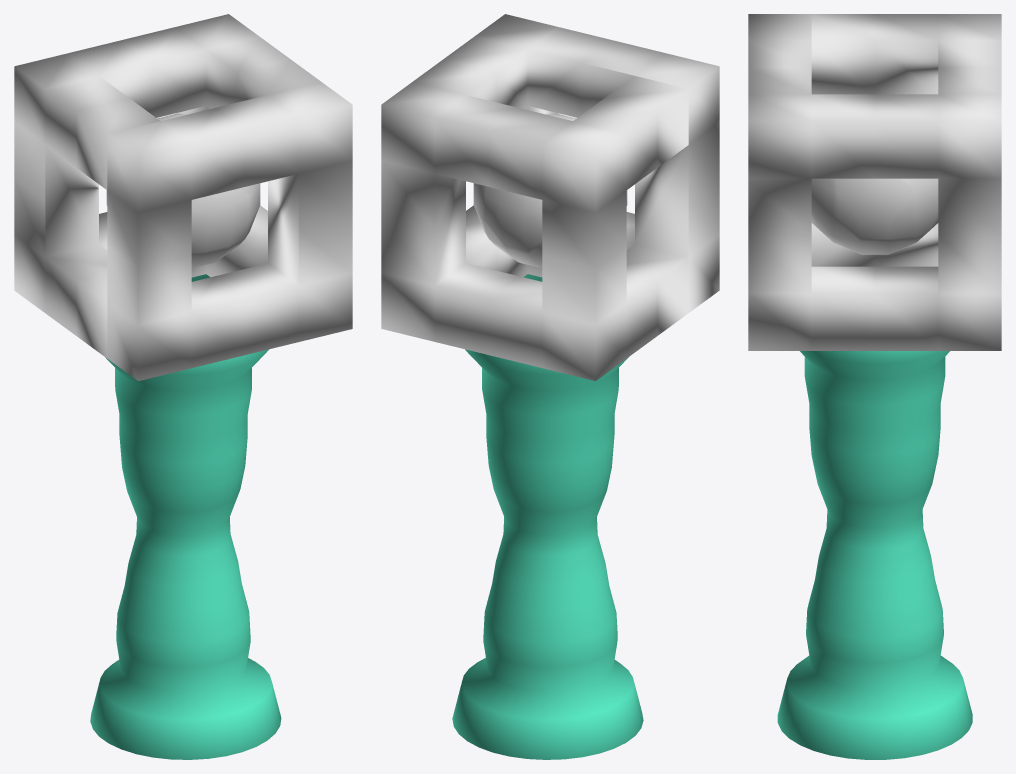
File: lampara (2).fbx
3 renders of one model, left to right at view 1: azimuth 30°, elevation 25°; view 2: azimuth 150°, elevation 25°; view 3: azimuth 270°, elevation 25°, orthographic. The views are drawn at different scales.
Parts seen in each view (by area): view 1: Cube, Cylinder, Mball; view 2: Cube, Cylinder, Mball; view 3: Cube, Cylinder, Mball.
Boxes of the visible parts, x1,y1,x2,y2 form: Cube: (14, 14, 352, 381); Cylinder: (90, 274, 281, 759); Mball: (106, 113, 260, 268); Cube: (381, 14, 719, 380); Cylinder: (452, 274, 643, 759); Mball: (473, 113, 627, 267); Cube: (748, 14, 1001, 350); Cylinder: (777, 351, 972, 759); Mball: (811, 178, 938, 254).
Size of the model in its own units: 364 by 1030 by 364.
